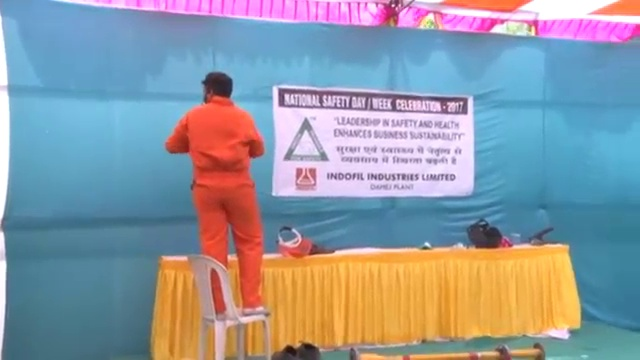helmet_off: (202, 69, 231, 102)
person: (162, 69, 274, 321)
